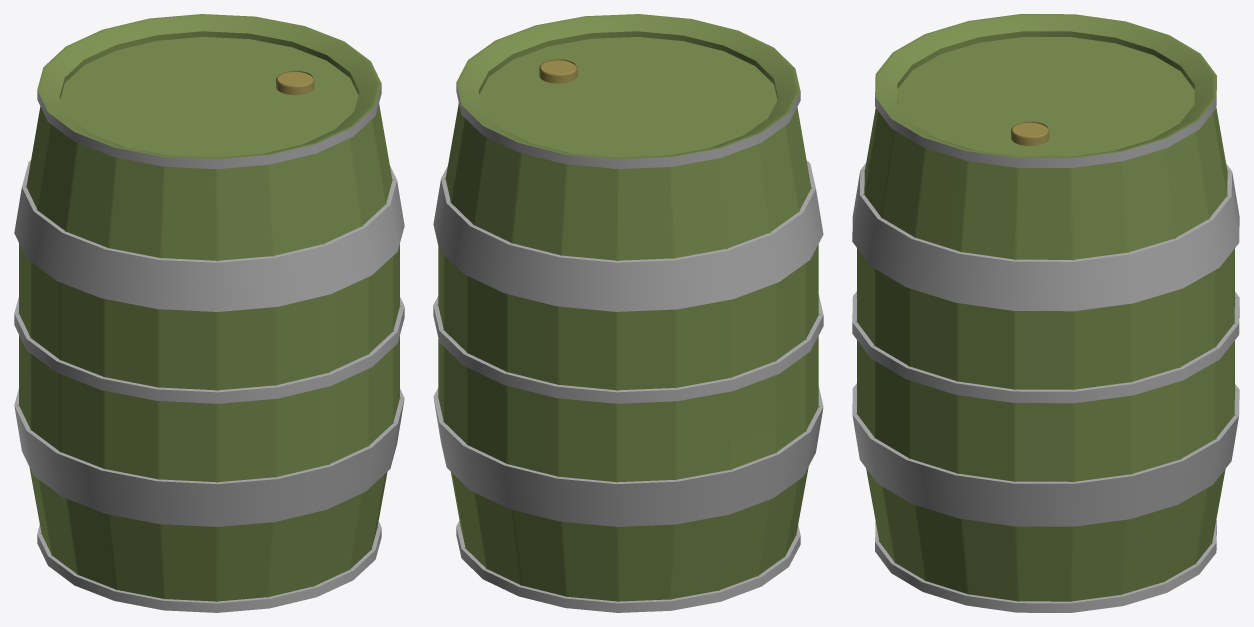
File: GJ25_GreenBarrel.fbx
3 renders of one model, left to right at view 1: azimuth 30°, elevation 25°; view 2: azimuth 150°, elevation 25°; view 3: azimuth 270°, elevation 25°, orthographic.
Parts seen in each view (by area): view 1: GJ_GreenBarrel; view 2: GJ_GreenBarrel; view 3: GJ_GreenBarrel.
Boxes of the visible parts, x1=… form: GJ_GreenBarrel: x1=14, y1=14, x2=404, y2=612; GJ_GreenBarrel: x1=433, y1=14, x2=823, y2=612; GJ_GreenBarrel: x1=852, y1=14, x2=1239, y2=612.
Size of the model in its own units: 3.17 by 4.1 by 3.17.
